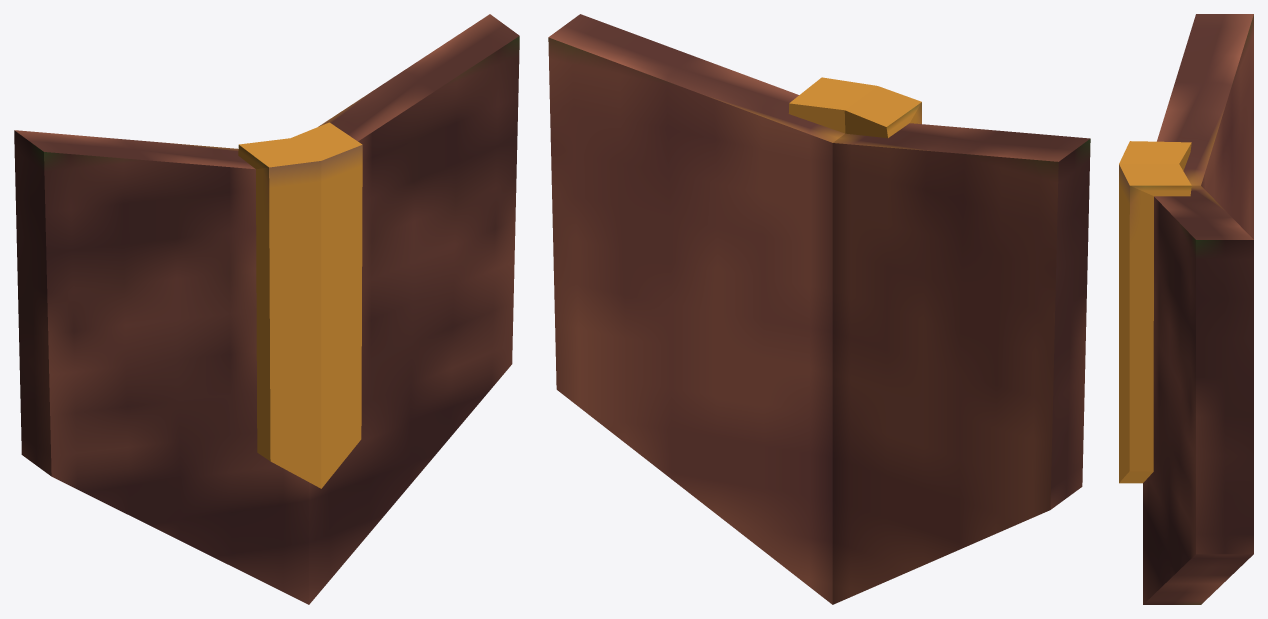
Rendered from boss_mask.fbx.
3 renders of one model, left to right at view 1: azimuth 30°, elevation 25°; view 2: azimuth 150°, elevation 25°; view 3: azimuth 270°, elevation 25°, orthographic. The views are drawn at different scales.
Parts seen in each view (by area): view 1: Mask; view 2: Mask; view 3: Mask.
Part boxes in pixels (box(x1,y1,x2,y2)): Mask: box(14, 14, 519, 604); Mask: box(548, 14, 1090, 604); Mask: box(1119, 14, 1253, 604).
Bounding box in the file's own units: 2.34 × 0.5916 × 2.31.
1 material, 1 textured.
